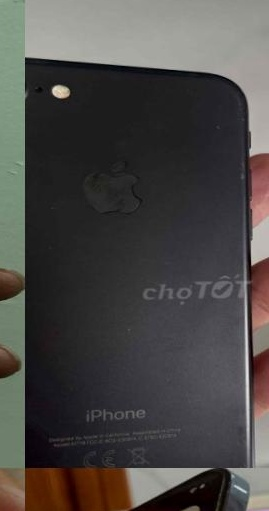scratch: (187, 67, 252, 184), (76, 156, 145, 218), (181, 434, 251, 468), (183, 382, 195, 410), (114, 324, 131, 333)
